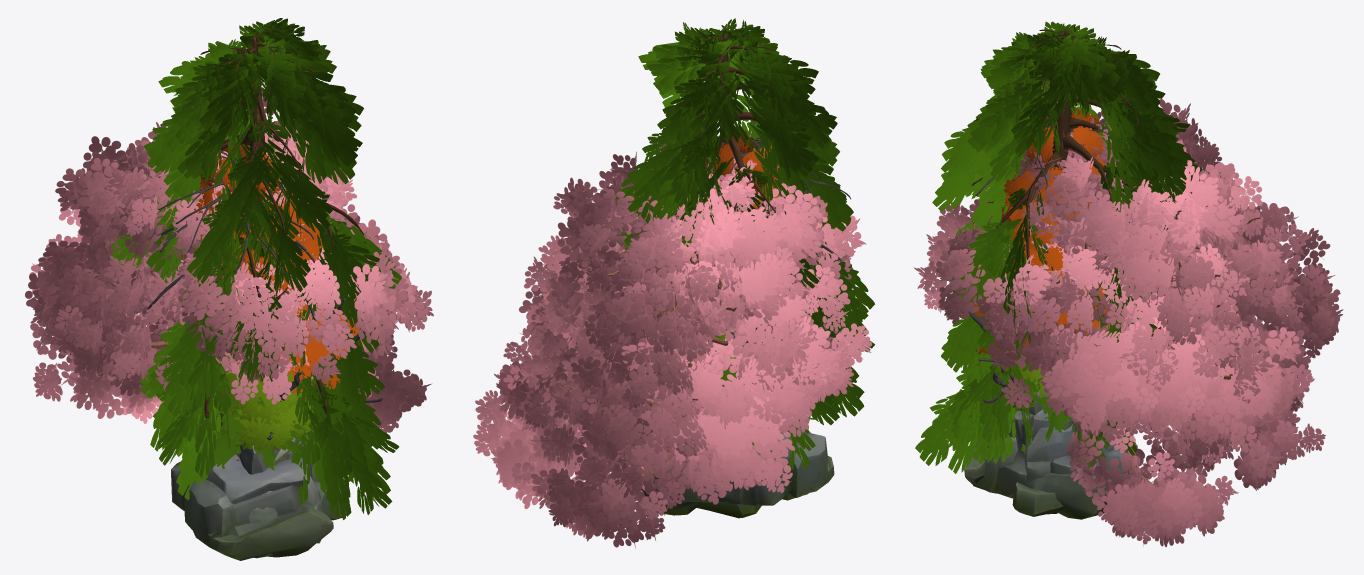
File: nature.glb
The picture shows the model from 3 angles, left to right: view 1: azimuth 30°, elevation 25°; view 2: azimuth 150°, elevation 25°; view 3: azimuth 270°, elevation 25°; orthographic projection. The views are drawn at different scales.
Visible parts, largest first — view 1: GiantPine_1, CherryBlossom_1, CherryBlossom_4, Rock_Big_2, CommonTree_1, Birch_4, Birch_2, DeadTree_3, Pine_4, CommonTree_3, Rock_Big_1, Pine_1; view 2: CherryBlossom_1, CherryBlossom_4, GiantPine_1, Rock_Big_2, Birch_2, Rock_Medium_4; view 3: CherryBlossom_1, CherryBlossom_4, GiantPine_1, Rock_Big_2, Birch_2, Rock_Big_1, Birch_4, Rock_Medium_3, Pine_4.
Boxes of the visible parts, x1,y1,x2,y2 form: GiantPine_1: [111, 18, 401, 519]; CherryBlossom_1: [25, 87, 402, 391]; CherryBlossom_4: [32, 120, 433, 434]; Rock_Big_2: [171, 430, 333, 560]; CommonTree_1: [213, 366, 316, 451]; Birch_4: [200, 216, 360, 393]; Birch_2: [191, 144, 359, 365]; DeadTree_3: [147, 144, 317, 328]; Pine_4: [200, 365, 325, 465]; CommonTree_3: [216, 371, 314, 426]; Rock_Big_1: [239, 442, 349, 558]; Pine_1: [209, 408, 311, 470]; CherryBlossom_1: [517, 137, 872, 475]; CherryBlossom_4: [473, 162, 851, 548]; GiantPine_1: [615, 18, 874, 473]; Rock_Big_2: [641, 428, 834, 515]; Birch_2: [708, 130, 779, 209]; Rock_Medium_4: [696, 502, 761, 518]; CherryBlossom_1: [914, 99, 1343, 455]; CherryBlossom_4: [985, 138, 1325, 546]; GiantPine_1: [915, 21, 1202, 473]; Rock_Big_2: [964, 405, 1137, 519]; Birch_2: [1001, 107, 1136, 363]; Rock_Big_1: [1012, 390, 1074, 516]; Birch_4: [948, 190, 1105, 357]; Rock_Medium_3: [971, 437, 1017, 493]; Pine_4: [1013, 363, 1070, 429].
Bounding box in the file's own units: 13.87 × 17.4 × 14.68.
16 materials, 16 textured.
